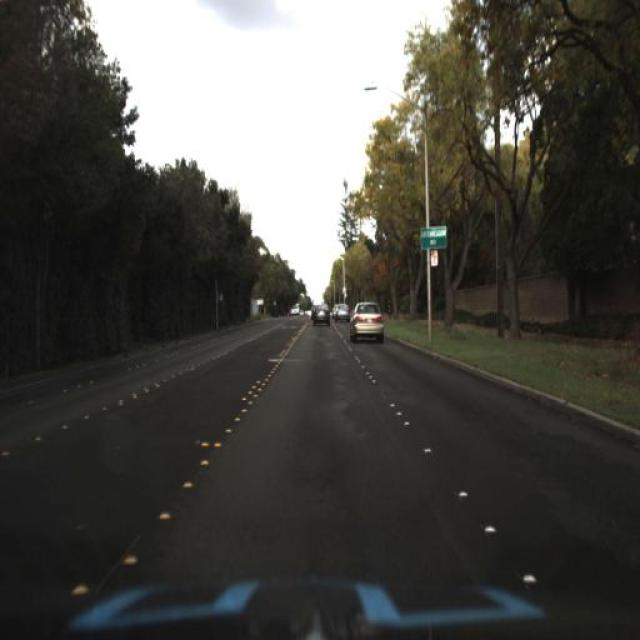car: (348, 292, 383, 342), (310, 298, 330, 331), (331, 296, 353, 324), (335, 302, 349, 322)
